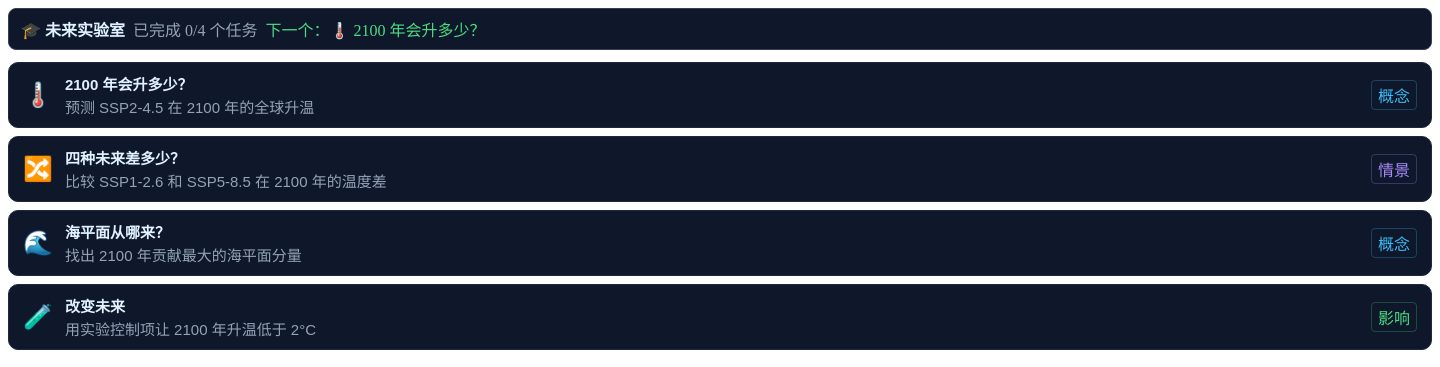
Test: V0.4 任务系统 › 点击任务 → 预测 → 揭示 → 反思 → 完成
Click the text "2100 年会升多少？". click: x=129, y=84
box: top-left (65, 76), bottom-right (192, 93)
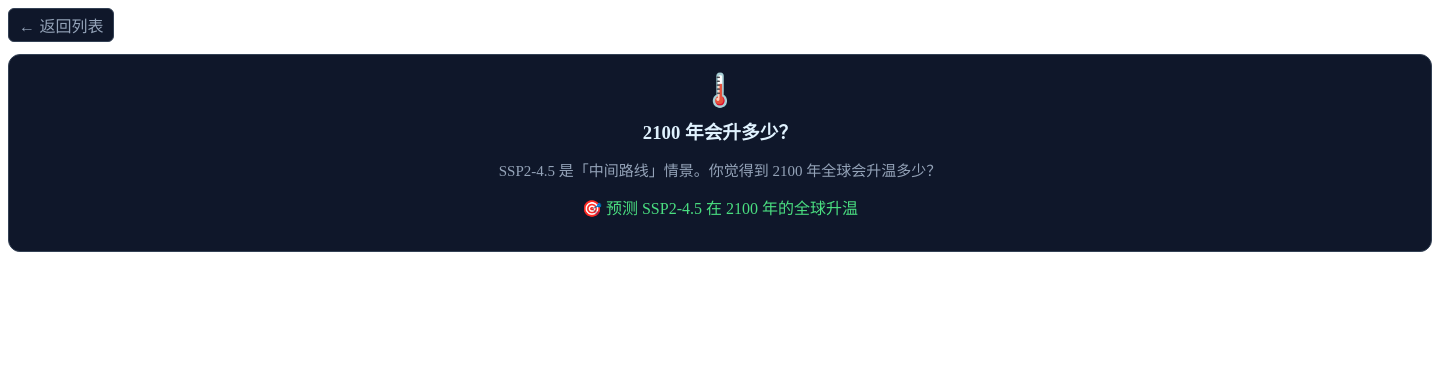
Expected: the heading "2100 年会升多少？" is shown, top-left (643, 122), bottom-right (797, 143)
Result: the element with test id "prediction-intro" is shown at top-left (8, 54), bottom-right (1432, 252)
